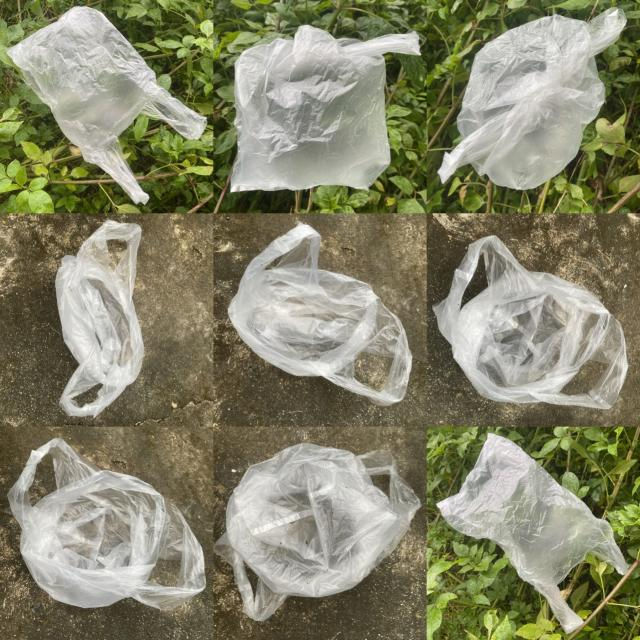Single-layer Plastic: (8, 6, 206, 204), (438, 434, 628, 632), (214, 444, 420, 621), (224, 25, 420, 202), (439, 7, 626, 190), (8, 439, 206, 609), (434, 236, 627, 409), (229, 222, 411, 405), (55, 220, 144, 416)
